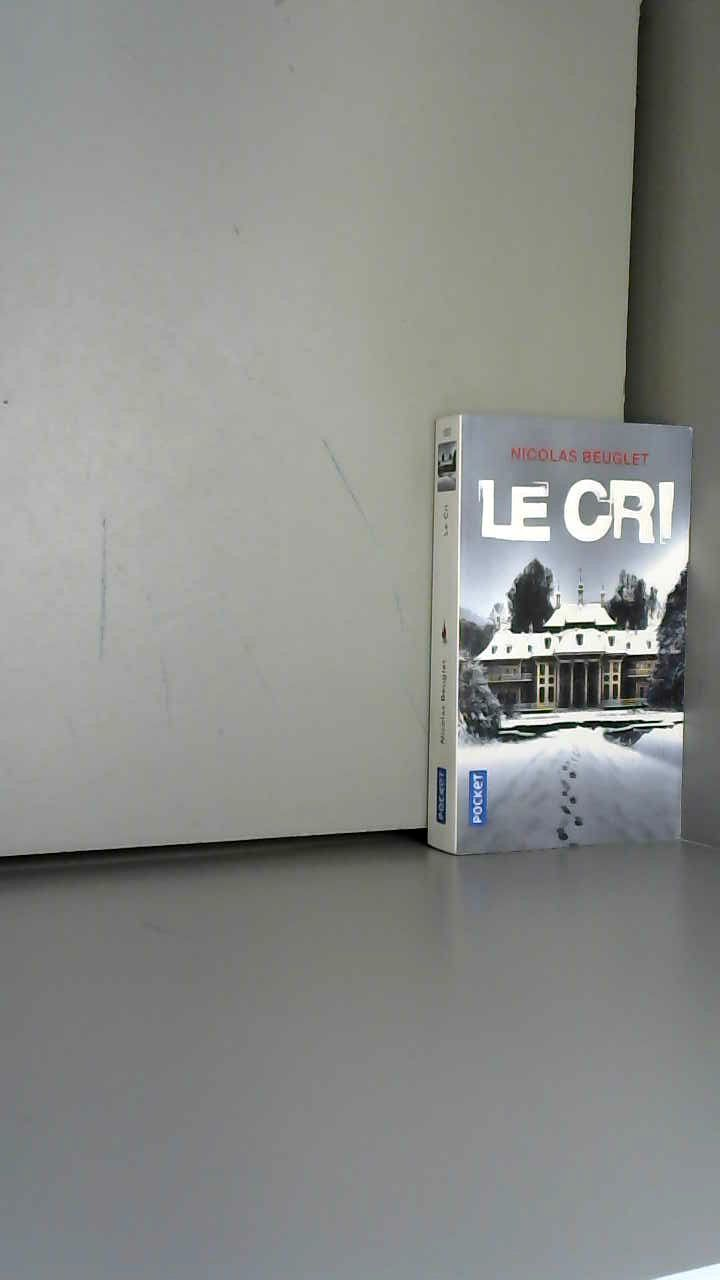book: (400, 390, 716, 903)
